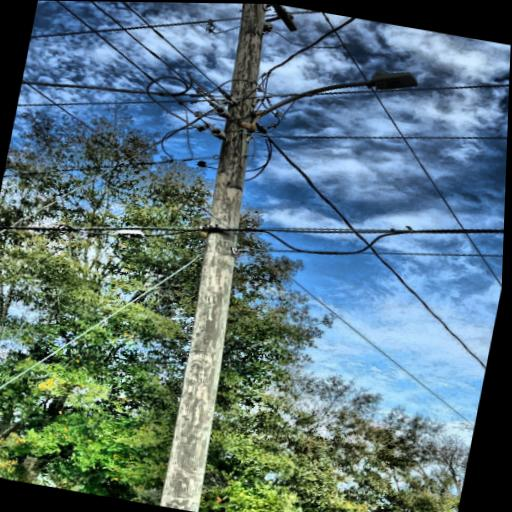pole: (129, 2, 316, 512)
street light: (239, 45, 422, 156)
